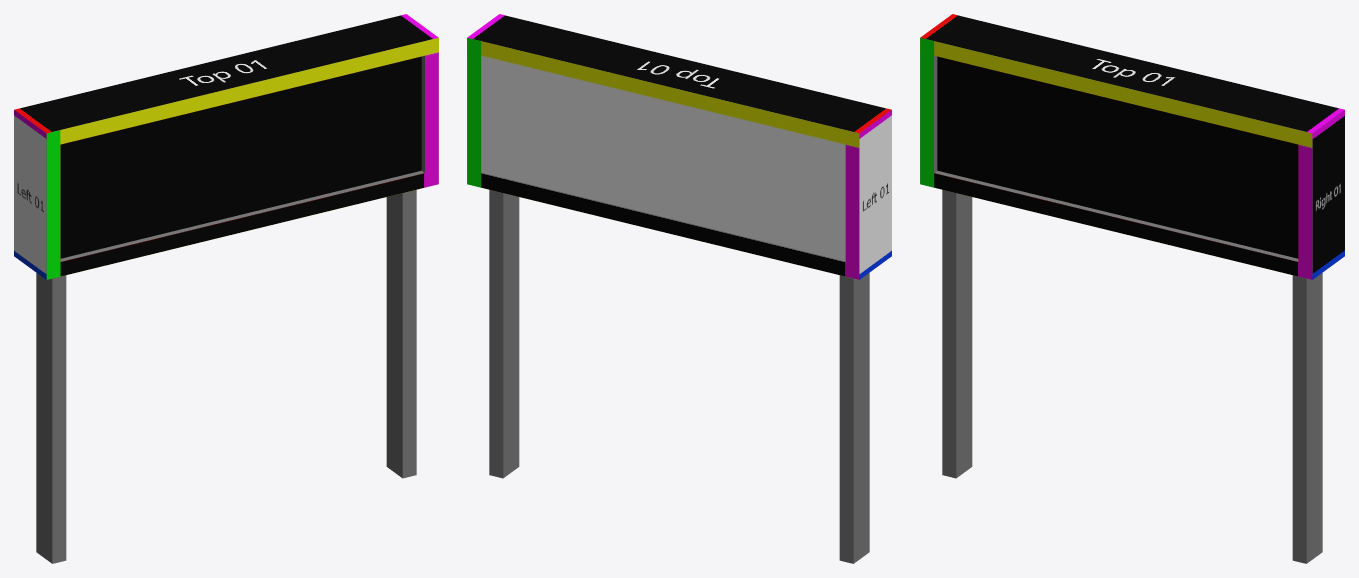
File: frame.dae
3 views of the same model, side by side, from view 1: azimuth 30°, elevation 25°; view 2: azimuth 150°, elevation 25°; view 3: azimuth 330°, elevation 25° (orthographic).
Parts seen in each view (by area): view 1: SketchUp (×7); view 2: SketchUp (×5); view 3: SketchUp (×7).
Part boxes in pixels (x1=…): SketchUp (×7): x1=14, y1=14, x2=438, y2=563; SketchUp (×5): x1=467, y1=14, x2=891, y2=563; SketchUp (×7): x1=920, y1=14, x2=1344, y2=563.
Bounding box in the file's own units: 55.12 × 7.87 × 59.06.
Materials: 6 (6 with a texture image).
